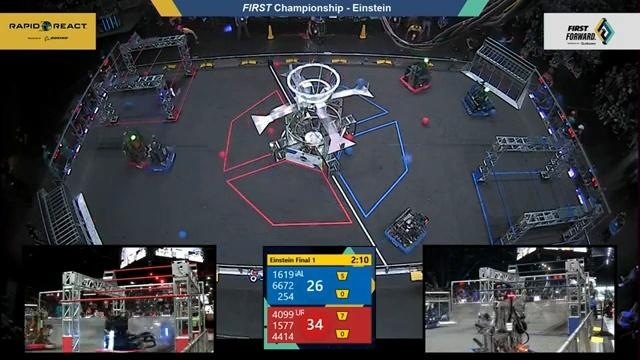robot: (472, 298, 529, 352), (379, 204, 435, 255), (451, 77, 501, 121), (98, 308, 146, 352), (394, 57, 437, 99), (117, 124, 151, 173), (26, 307, 58, 352), (145, 137, 181, 172), (425, 304, 440, 333)
